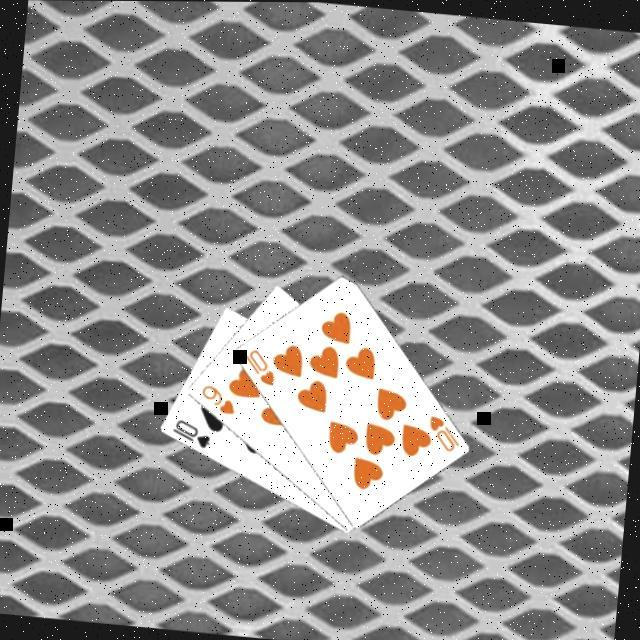10H: (236, 342, 278, 386), (421, 408, 462, 452)
10S: (164, 412, 213, 450)
9H: (193, 378, 237, 415)
